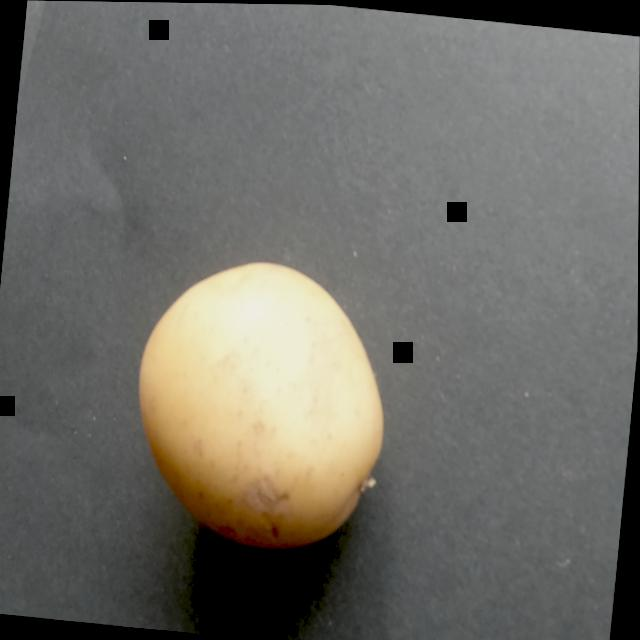Potato: (96, 215, 472, 616)
